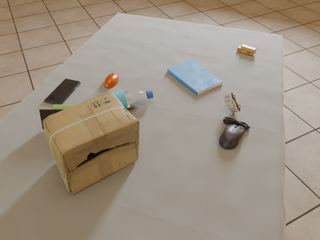book: (167, 60, 223, 95)
bottle: (93, 90, 153, 109)
box: (43, 92, 139, 193)
mouse: (219, 117, 250, 149), (104, 73, 119, 88)
phone: (44, 79, 81, 104)
toy_car: (224, 92, 241, 113), (237, 45, 256, 55)
